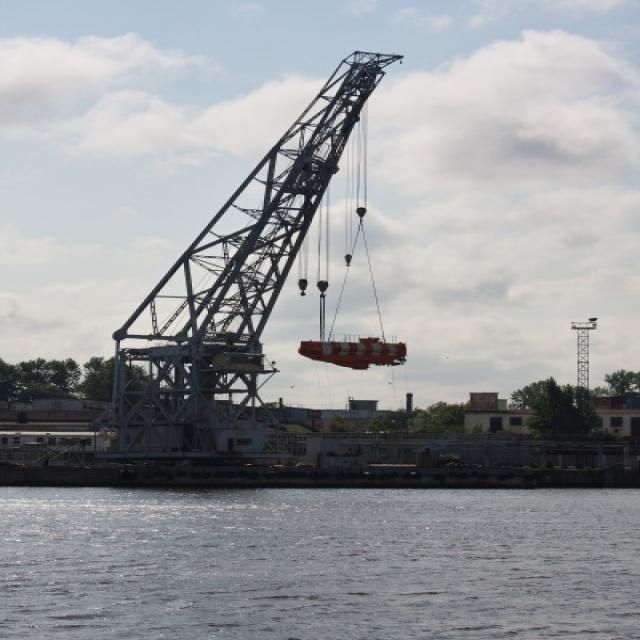submarine: (129, 470, 551, 492)
